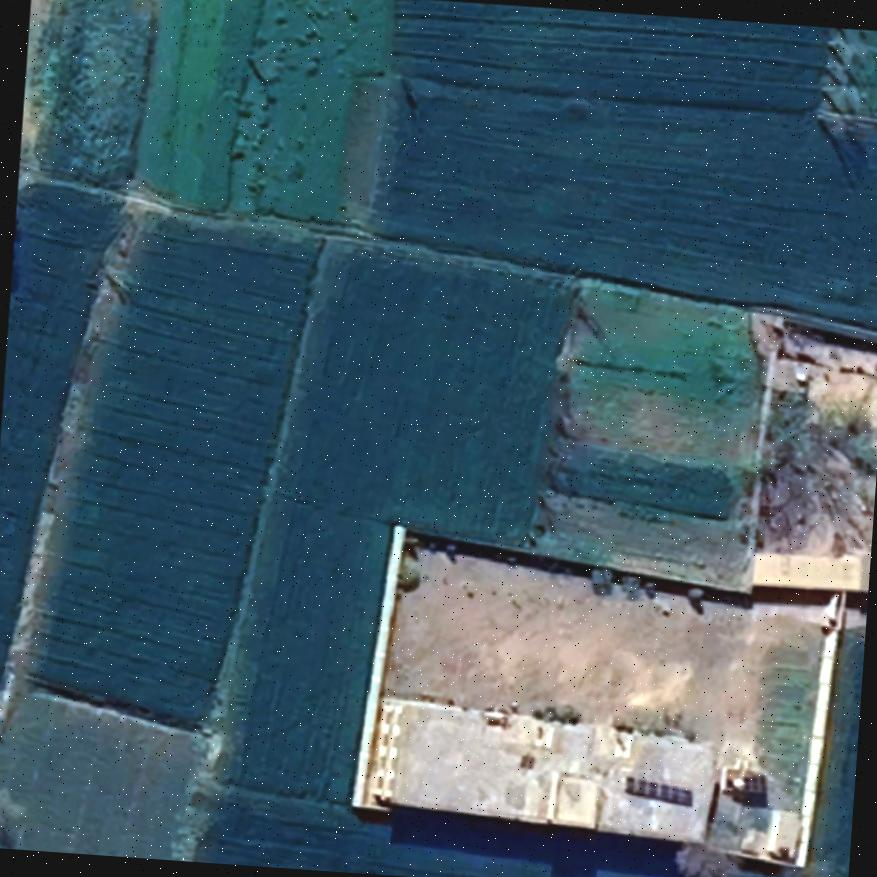Solarpanel: (618, 771, 698, 811), (720, 766, 773, 800)
